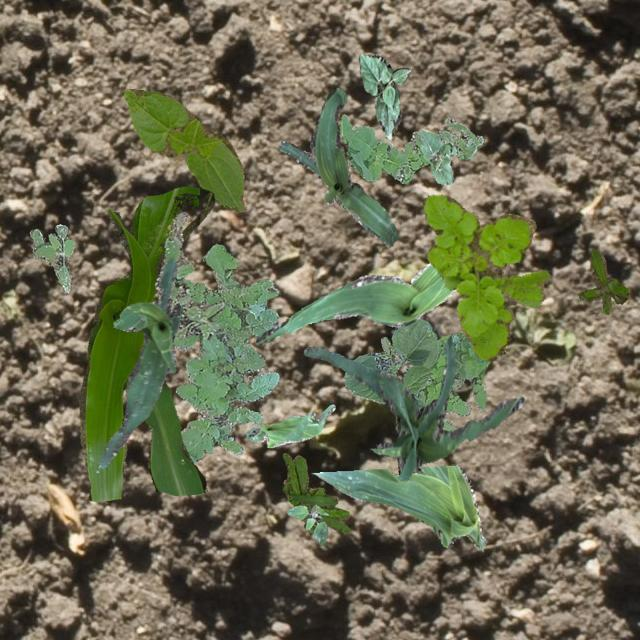crop: (78, 185, 214, 500), (302, 336, 524, 480), (278, 87, 398, 246), (98, 258, 182, 467), (254, 262, 456, 346), (122, 88, 245, 212), (312, 464, 484, 550), (344, 316, 438, 409), (358, 53, 410, 138), (245, 404, 334, 446), (418, 130, 452, 184)
weed: (172, 243, 278, 462), (422, 194, 548, 360), (338, 114, 482, 182), (154, 210, 224, 338), (418, 332, 488, 431), (282, 452, 348, 532), (578, 246, 628, 314), (28, 224, 74, 292), (286, 504, 326, 544)
